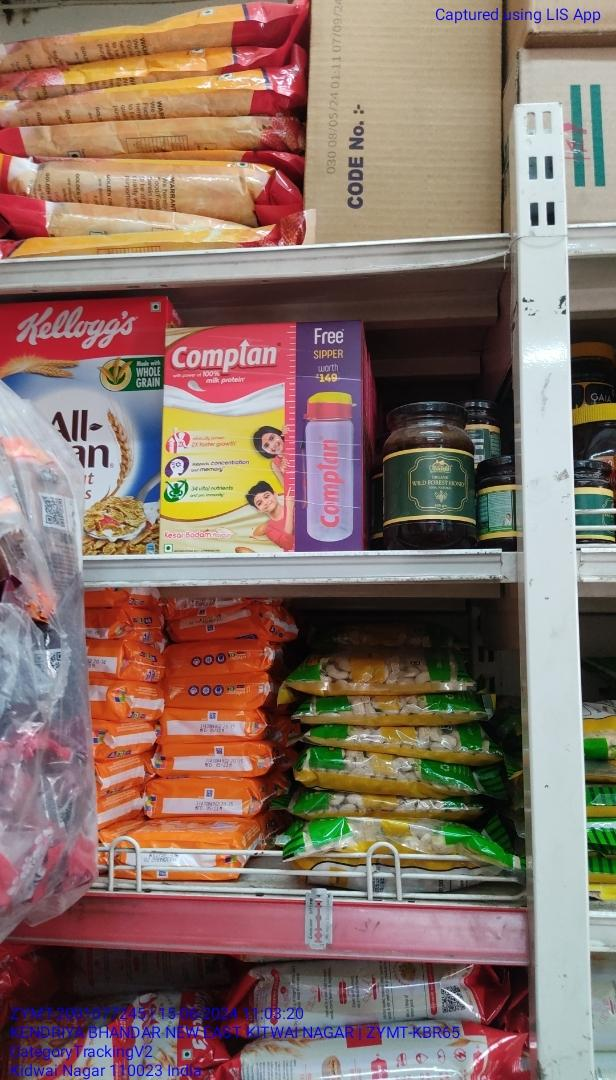COMPLAN_KESAR_BADAM_500_GMS_PACK: (162, 325, 364, 554)
